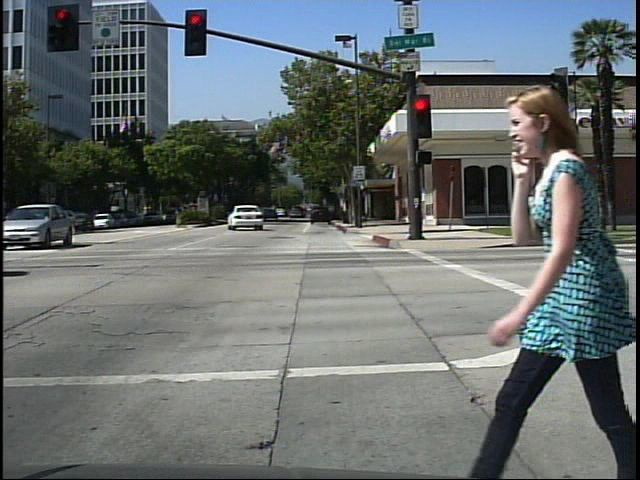person: (487, 73, 633, 480)
